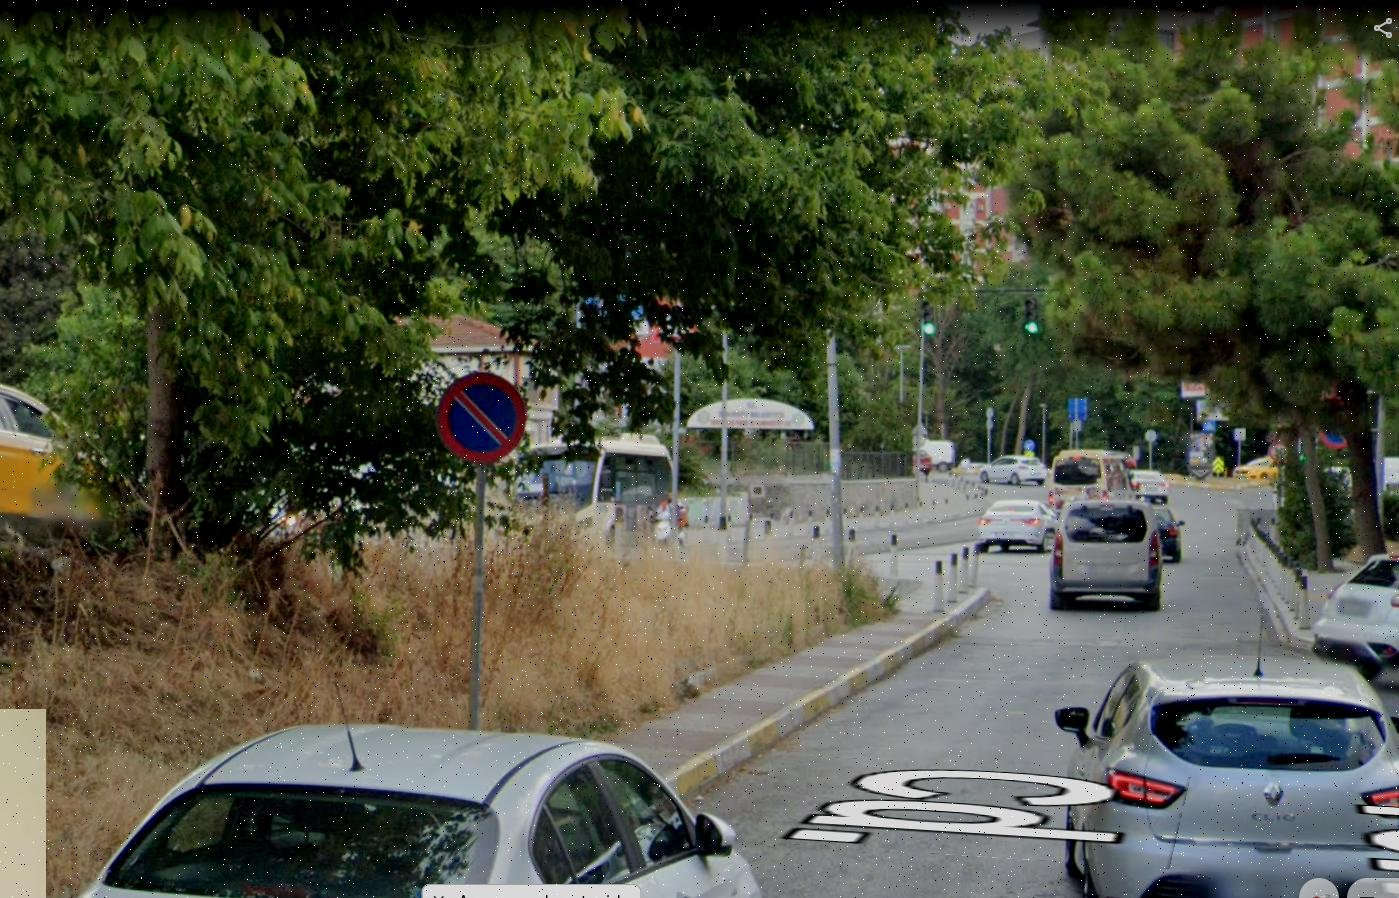nopark: (440, 374, 521, 461)
